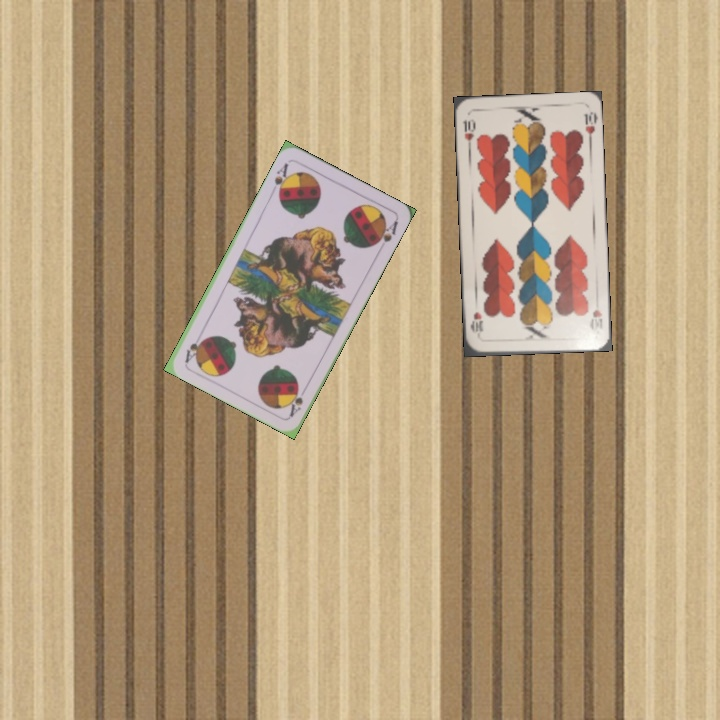H10: (459, 115, 478, 152), (587, 305, 605, 334)
SA: (285, 382, 310, 420), (270, 159, 293, 199)
